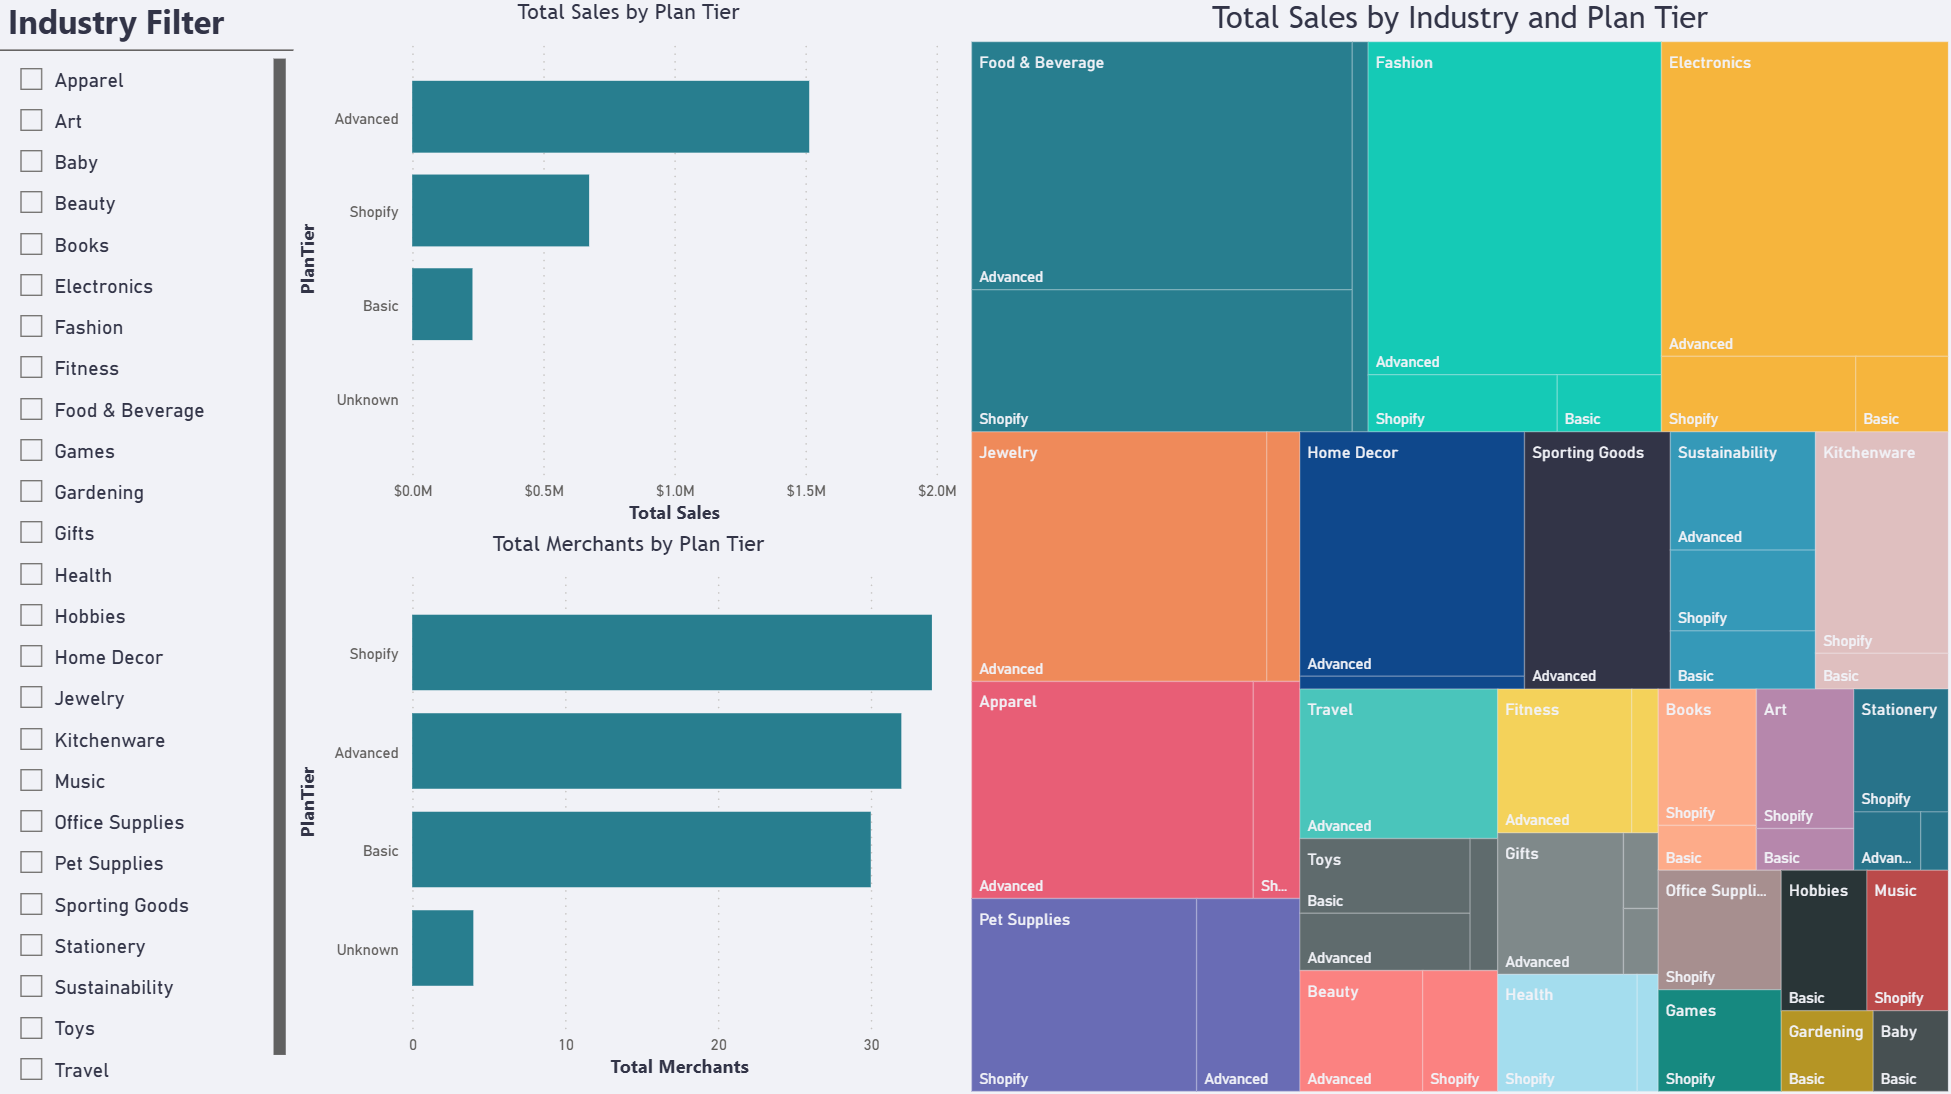

What the dashboard file says about the page in this screenshot:
{"tool":"powerbi","page":{"name":"Industry Deep Dive","canvas":[1280,720],"ordinal":1},"visuals":[{"type":"slicer","title":"Industry Filter","fields":{"Values":["merchants.Industry"]},"box":[0,0,191.7,719.8],"z":0},{"type":"clusteredBarChart","title":"Total Sales by Plan Tier","fields":{"Y":["Key Measures.Total Sales"],"Category":["merchants.PlanTier"]},"box":[191.7,0,439.1,348.1],"z":1000},{"type":"clusteredBarChart","title":"Total Merchants by Plan Tier","fields":{"Y":["Key Measures.Total Merchants"],"Category":["merchants.PlanTier"]},"box":[191.7,348.1,439.1,362.5],"z":2000},{"type":"treemap","title":"Total Sales by Industry and Plan Tier","fields":{"Group":["merchants.Industry"],"Details":["merchants.PlanTier"],"Values":["Key Measures.Total Sales"]},"box":[630.8,0,649.2,719.8],"z":2001}]}

Visuals, with their boxes in screenshot pixels (x1, y1, x2, y2), scaled from the page's 1280x720 canvas onto the 1951x1094 screenshot:
"Industry Filter" slicer: (x1=0, y1=0, x2=292, y2=1093)
"Total Sales by Plan Tier" clusteredBarChart: (x1=292, y1=0, x2=961, y2=529)
"Total Merchants by Plan Tier" clusteredBarChart: (x1=292, y1=529, x2=961, y2=1080)
"Total Sales by Industry and Plan Tier" treemap: (x1=961, y1=0, x2=1950, y2=1093)
